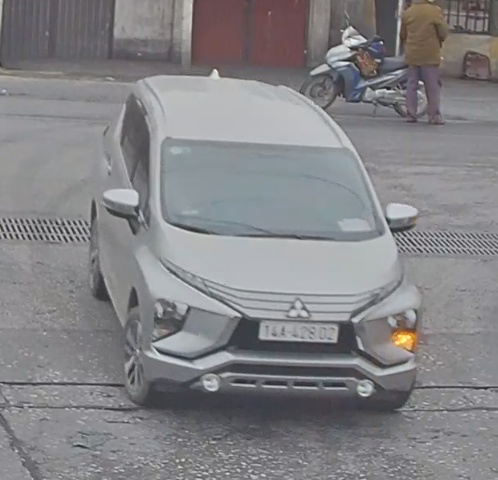vehicle plate: (256, 316, 346, 345)
